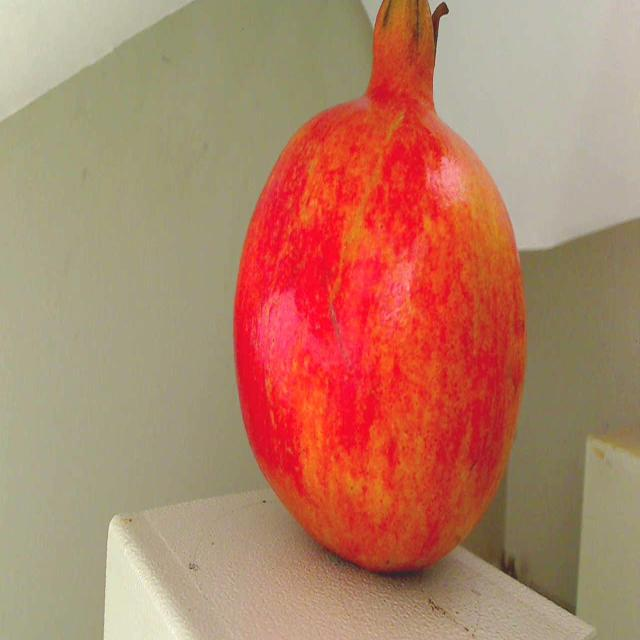pomegranate: (220, 0, 537, 587)
